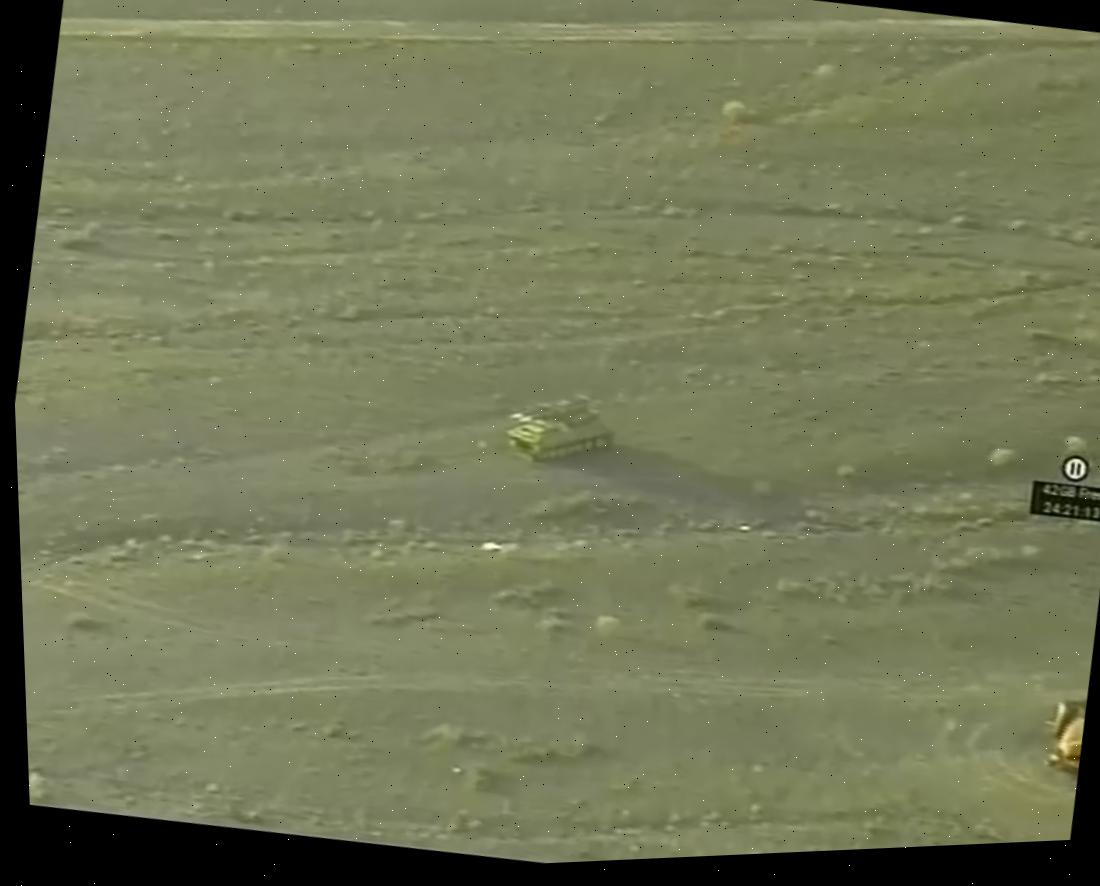armored_car: (495, 380, 622, 482)
